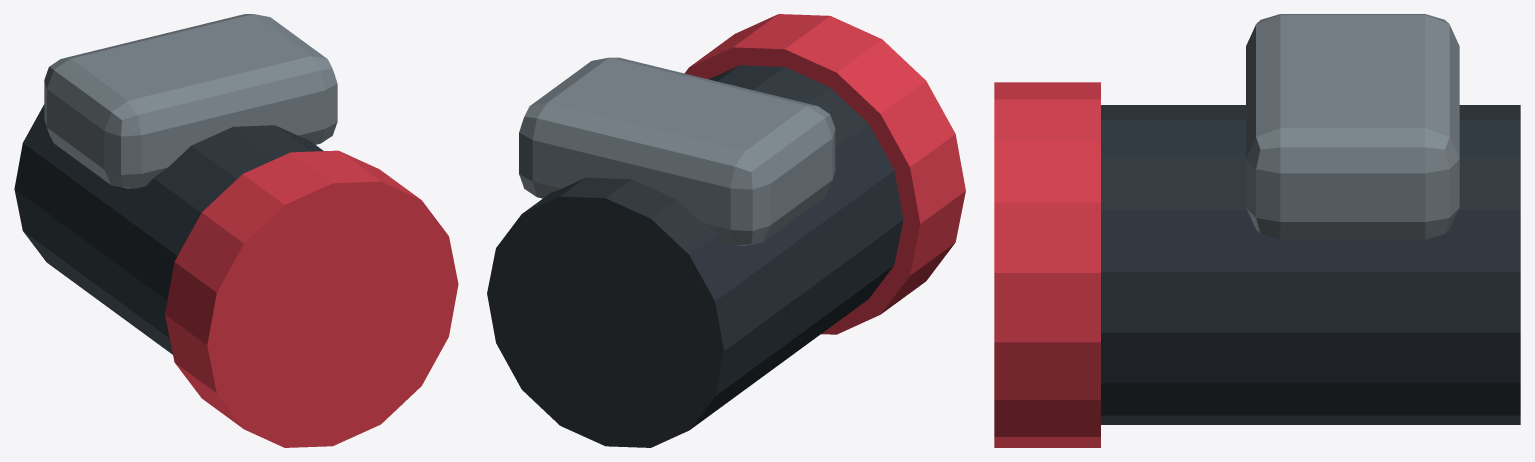
Rendered from HandToHandBracer.fbx.
The picture shows the model from 3 angles, left to right: view 1: azimuth 30°, elevation 25°; view 2: azimuth 150°, elevation 25°; view 3: azimuth 270°, elevation 25°; orthographic projection. The views are drawn at different scales.
Visible parts, largest first — view 1: Bracer Strike Ring, Bracer Guard, Bracer Main; view 2: Bracer Main, Bracer Guard, Bracer Strike Ring; view 3: Bracer Main, Bracer Guard, Bracer Strike Ring.
Part boxes in pixels (<box>): Bracer Strike Ring: <box>165,150,458,447</box>; Bracer Guard: <box>44,14,337,188</box>; Bracer Main: <box>14,104,323,354</box>; Bracer Main: <box>487,65,903,447</box>; Bracer Guard: <box>519,57,835,245</box>; Bracer Strike Ring: <box>684,14,965,334</box>; Bracer Main: <box>1101,105,1520,424</box>; Bracer Guard: <box>1246,14,1459,239</box>; Bracer Strike Ring: <box>994,82,1100,447</box>.
Bounding box in the file's own units: 0.24 × 0.26 × 0.345.
